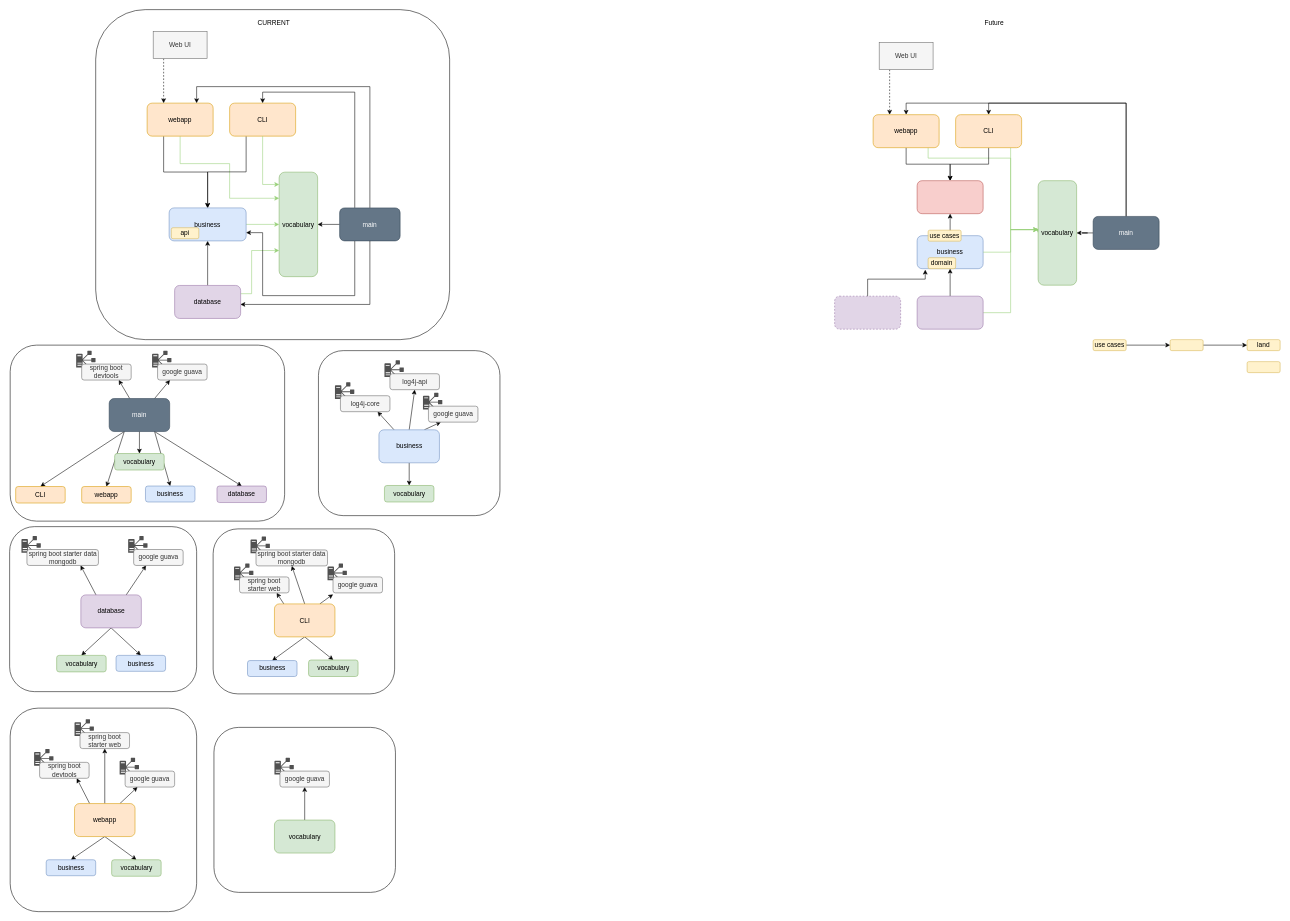
Some shapes in this 1290 by 921 pixel diagram are drawn without their labels. Here are the shapes that lost their labels. From the top down, the centre of each, then its label:
[950,197]: app API
[867,312]: inMem module?
[950,312]: (mongo)database
[1186,345]: "controller"
[1263,367]: move
